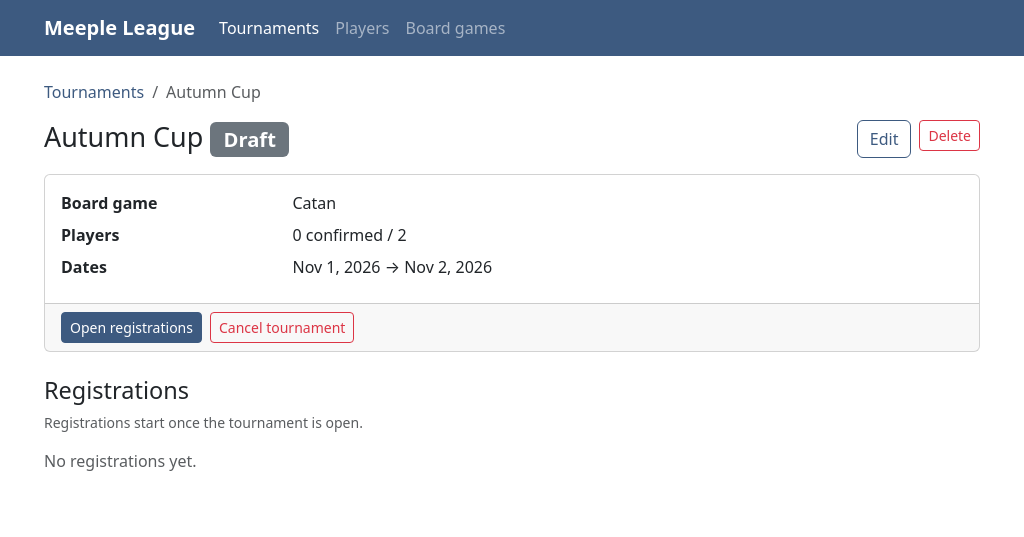
Test: tournaments › offers the legal transitions and sends the full tournament with the new status
This screenshot has width=1024, height=537.
Expected: the button "Cancel tournament" is shown, [210,312,354,343]
Expected: the button "Start tournament" is not shown
Click the button "Open registrations".
click(132, 328)  # box [61,312,202,343]
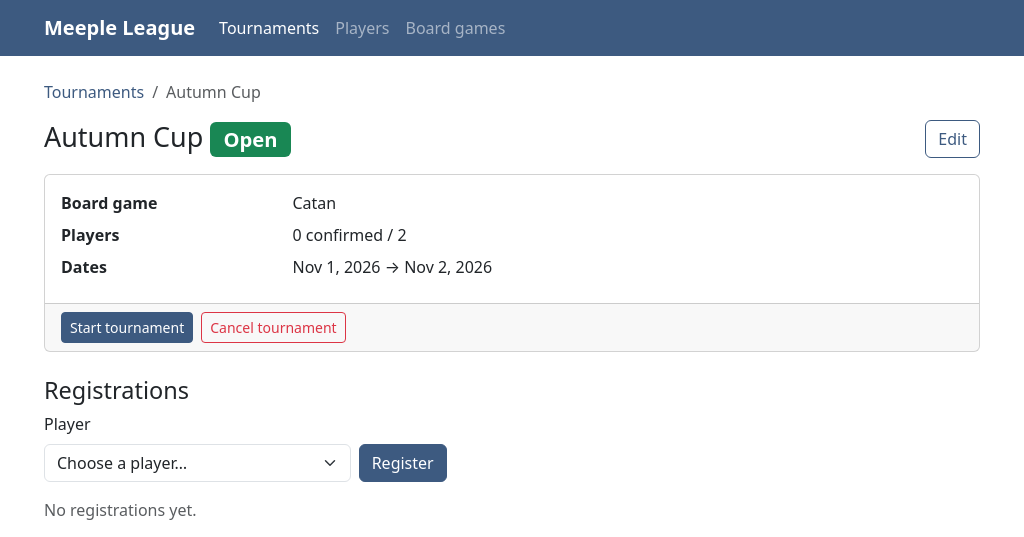
Result: the button "Start tournament" is shown at [61,312,193,343]
